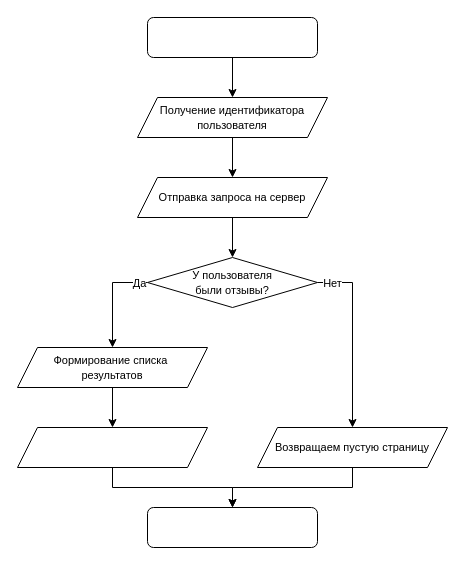
This 465x565 diagram has some shape labels left out. Each missing label, with the box of its shape:
Возвращаем результат функции: (16, 426, 208, 468)
Конец: (146, 506, 318, 548)
Начало: (146, 16, 318, 58)
